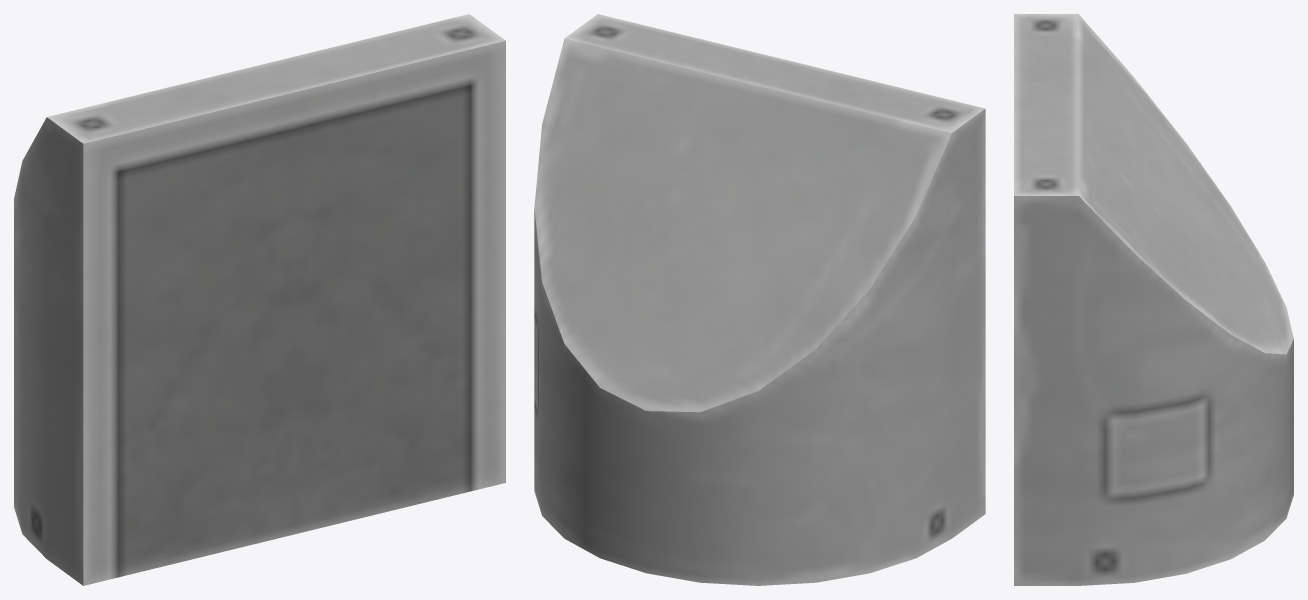
The model's file is vernier.obj.
3 views of the same model, side by side, from view 1: azimuth 30°, elevation 25°; view 2: azimuth 150°, elevation 25°; view 3: azimuth 270°, elevation 25° (orthographic). The views are drawn at different scales.
Visible parts, largest first — view 1: body; view 2: body; view 3: body.
Part boxes in pixels (left/top/right/bottom): body: left=14, top=14, right=505, bottom=585; body: left=534, top=14, right=985, bottom=585; body: left=1014, top=14, right=1293, bottom=585.
Size of the model in its own units: 0.25 by 0.25 by 0.1625.
Materials: 1 (1 with a texture image).
